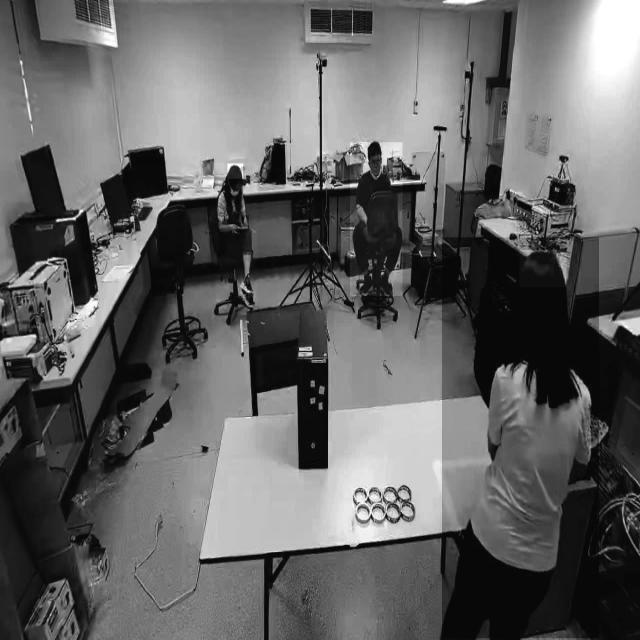face_nomask: (368, 154, 382, 175)
glasses: (369, 155, 382, 168)
hand_noglove: (230, 222, 242, 235), (241, 215, 249, 228)
head_nohelmet: (519, 250, 567, 288), (227, 163, 243, 180), (367, 140, 383, 154)
person: (441, 237, 599, 639), (350, 142, 402, 297), (215, 162, 257, 316)
shoes: (378, 268, 394, 297), (239, 270, 255, 296), (360, 269, 374, 296), (240, 286, 255, 310)
